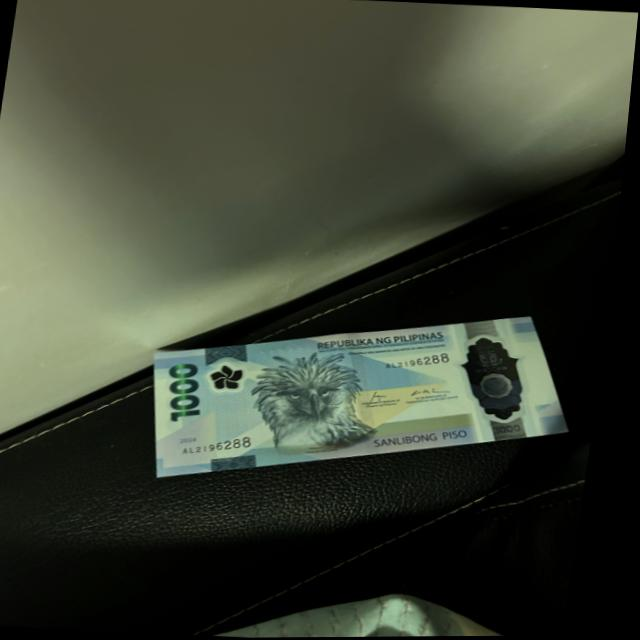clear_window: (452, 331, 546, 425)
eagle: (248, 353, 386, 446)
sampaguita: (211, 361, 258, 391)
